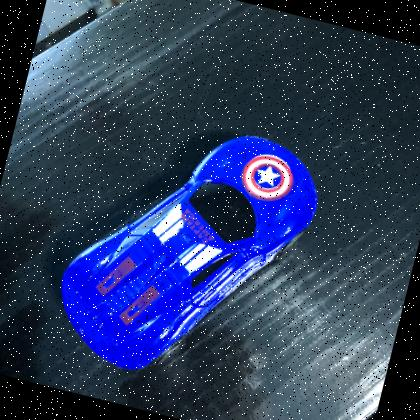Car: (37, 90, 337, 410)
